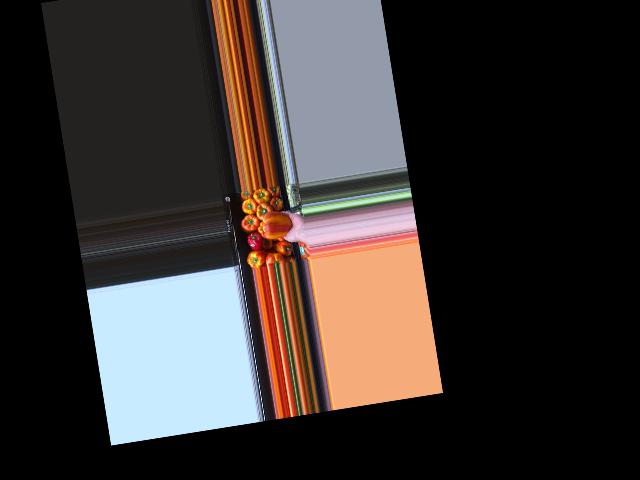bell_pepper: (274, 238, 291, 258)
